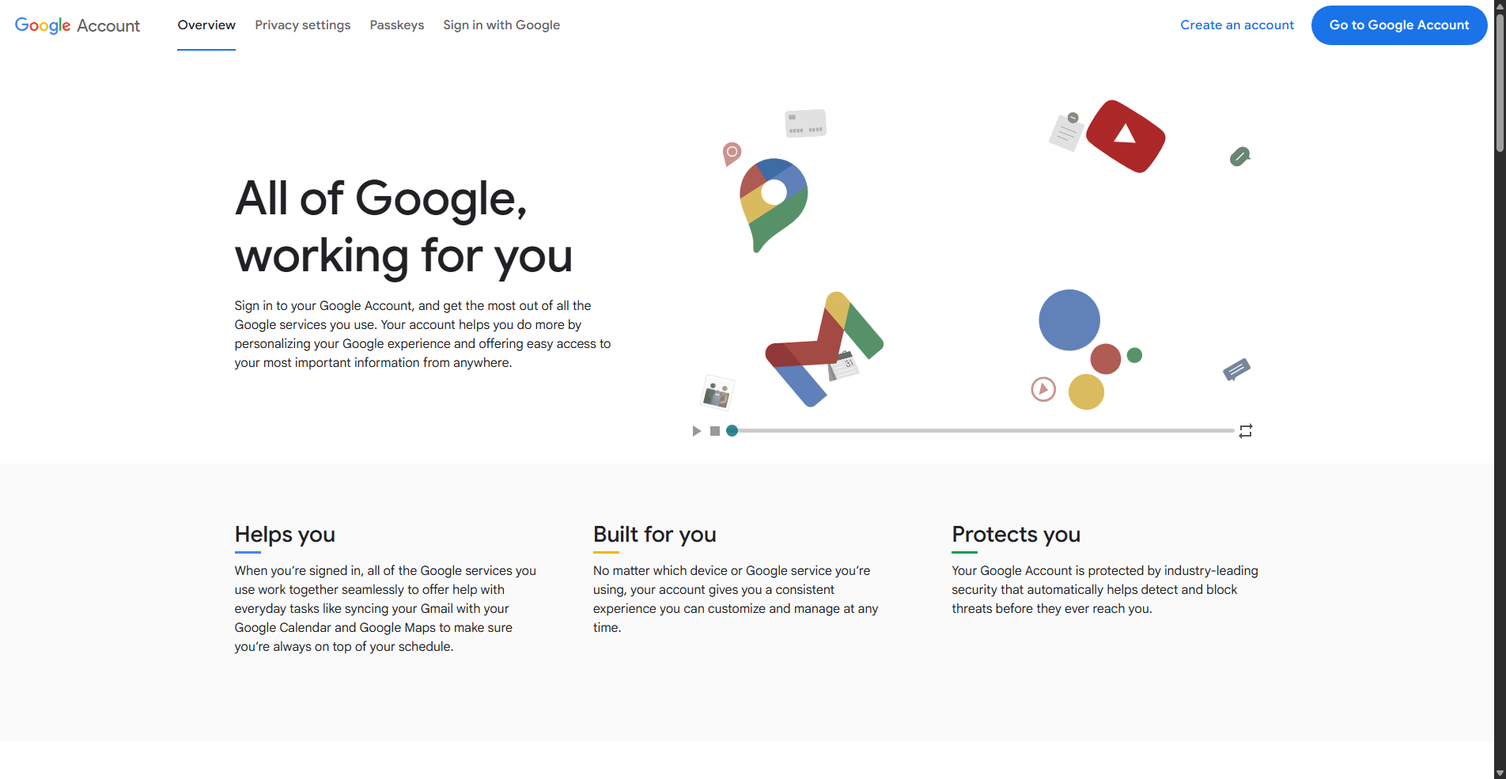button: (1311, 6, 1488, 45), (1173, 6, 1305, 45)
link: (6, 6, 147, 44), (434, 6, 570, 44), (245, 6, 360, 44), (168, 6, 245, 44), (360, 6, 434, 44)
